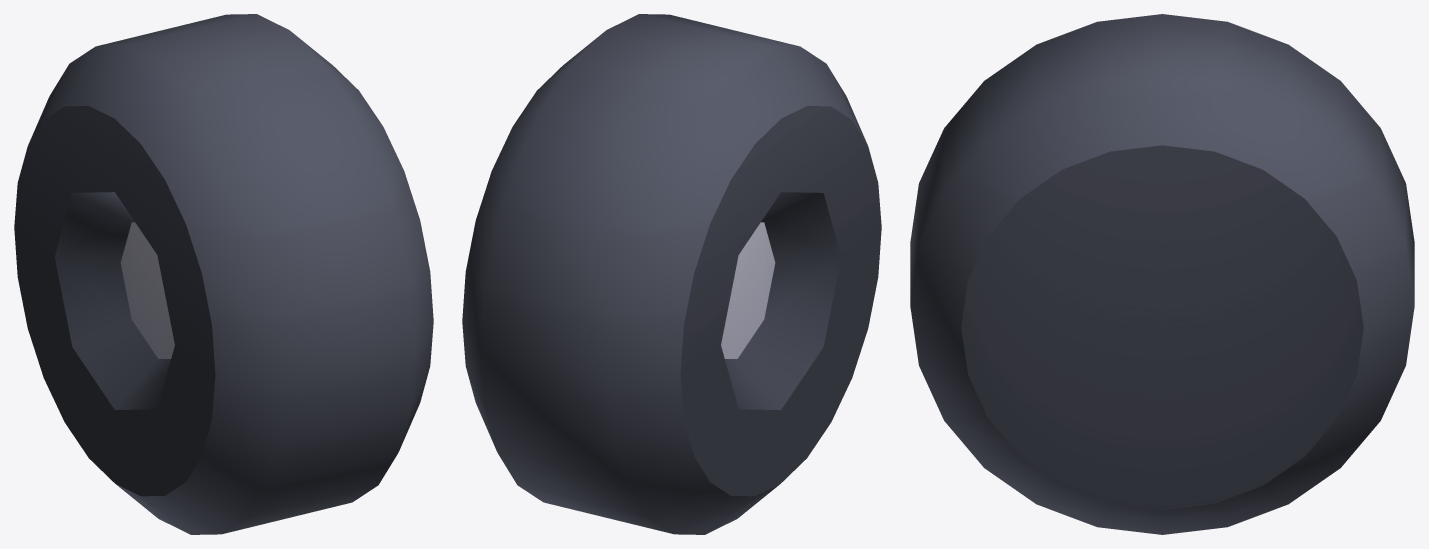
The model's file is wheel-large.obj.
3 renders of one model, left to right at view 1: azimuth 30°, elevation 25°; view 2: azimuth 150°, elevation 25°; view 3: azimuth 270°, elevation 25°, orthographic.
Parts seen in each view (by area): view 1: wheel-large; view 2: wheel-large; view 3: wheel-large.
Boxes of the visible parts, left/top/right/bottom form: wheel-large: left=14, top=14, right=433, bottom=534; wheel-large: left=462, top=14, right=881, bottom=534; wheel-large: left=910, top=14, right=1414, bottom=534.
Bounding box in the file's own units: 0.1875 × 0.375 × 0.375.
1 material, 1 textured.
